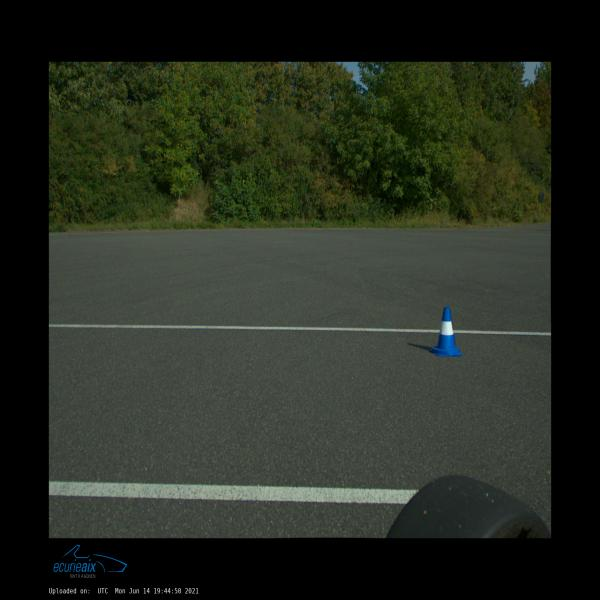blue_cone: (429, 306, 462, 356)
